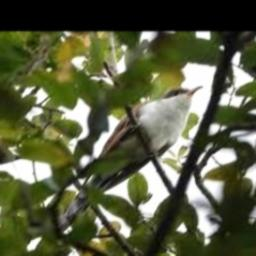Cuckoo: (56, 85, 202, 230)
